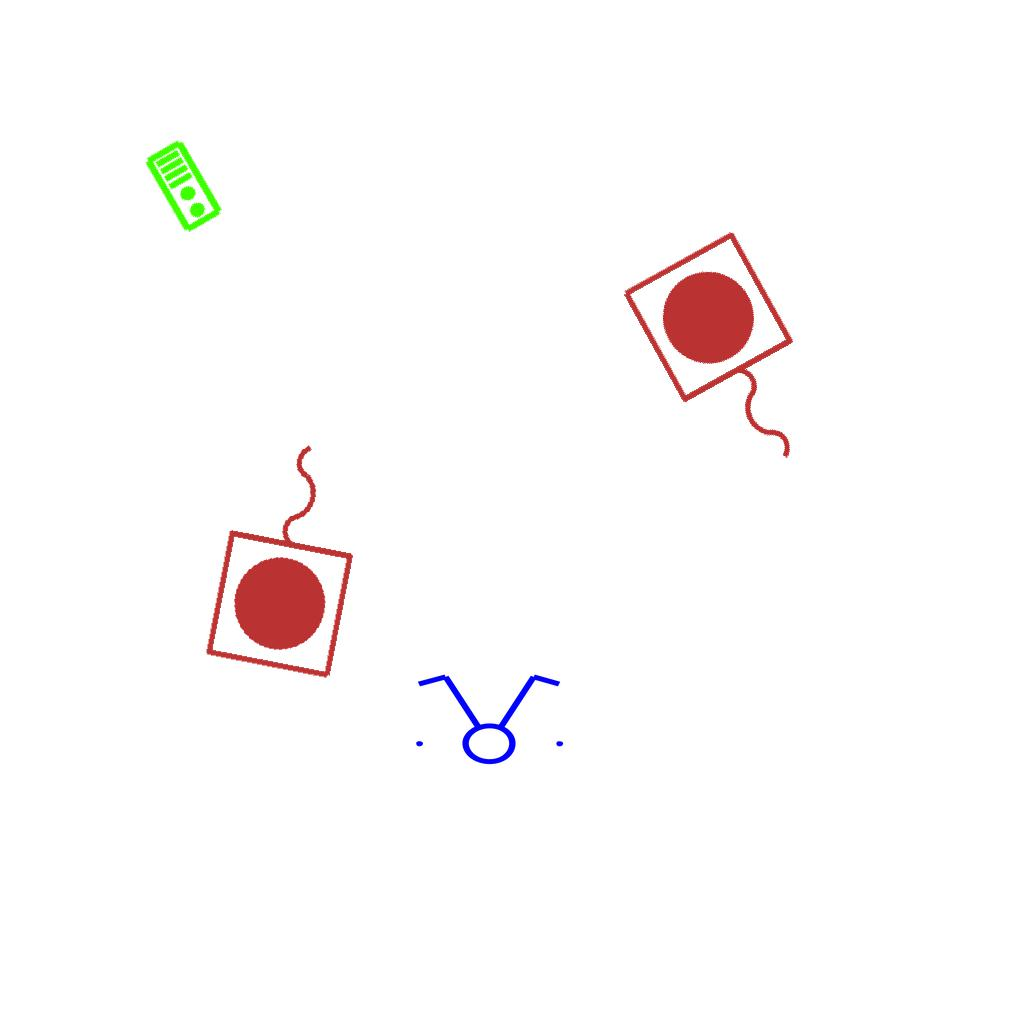Gegensprechanlage_mit_Video: (142, 136, 227, 236)
Serienschalter: (404, 670, 572, 766)
Zugtaster: (608, 220, 854, 504), (197, 421, 385, 689)
